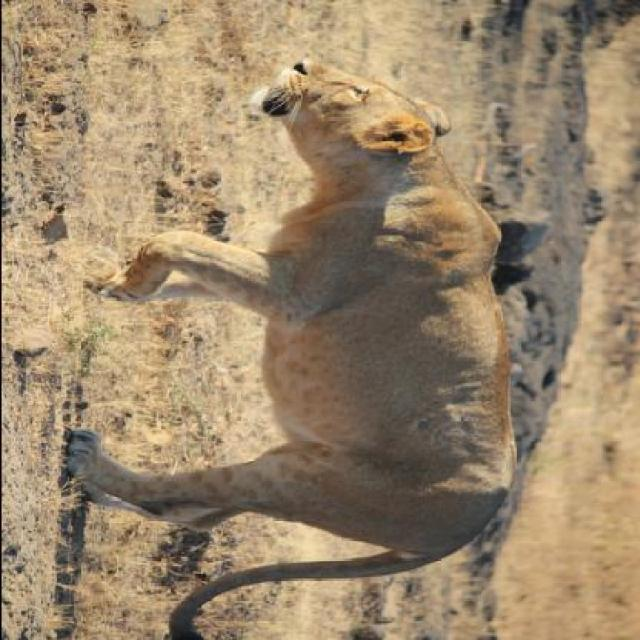Lion: (1, 34, 522, 638)
